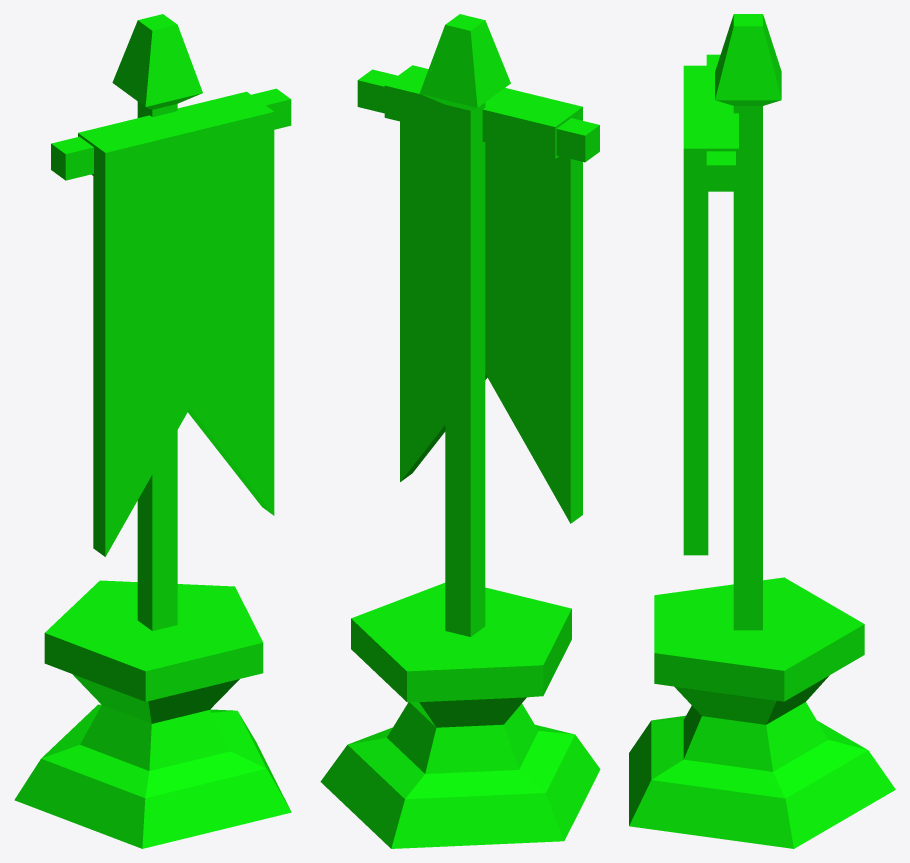
File: SM_Battlemap_Figurine_Flag_B_Fantasy.fbx
The picture shows the model from 3 angles, left to right: view 1: azimuth 30°, elevation 25°; view 2: azimuth 150°, elevation 25°; view 3: azimuth 270°, elevation 25°; orthographic projection.
Parts seen in each view (by area): view 1: battlemap-figurine-flag-b-fantasy; view 2: battlemap-figurine-flag-b-fantasy; view 3: battlemap-figurine-flag-b-fantasy.
Boxes of the visible parts, box(x1,y1,x2,y2) form: battlemap-figurine-flag-b-fantasy: box(14, 14, 291, 848); battlemap-figurine-flag-b-fantasy: box(320, 14, 600, 848); battlemap-figurine-flag-b-fantasy: box(629, 14, 895, 848).
Bounding box in the file's own units: 0.1503 × 0.4546 × 0.1429.
